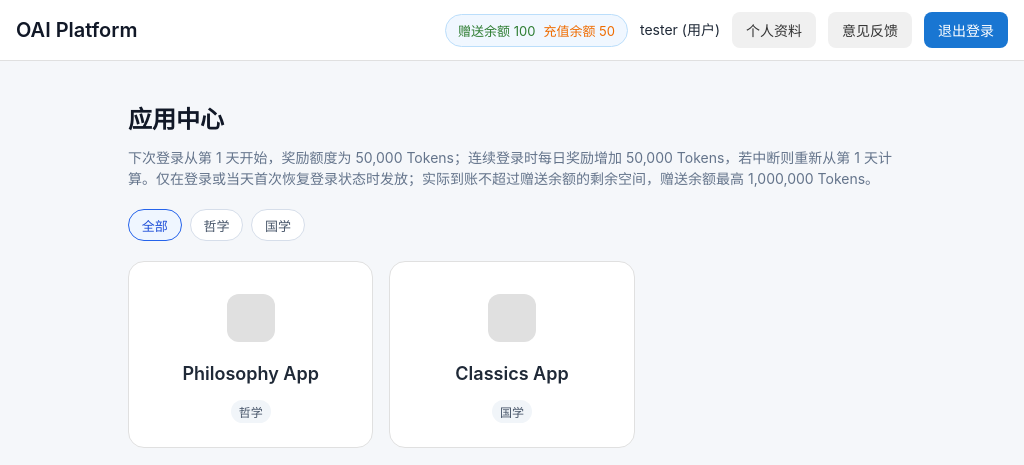
it: AppHub › filters app cards by tags
Check: the heading "Philosophy App" is shown, box top-left (182, 363), bottom-right (319, 384)
Check: the heading "Classics App" is shown, box top-left (455, 363), bottom-right (569, 384)
Click the button "哲学": click(216, 225) top-left (190, 209), bottom-right (243, 241)
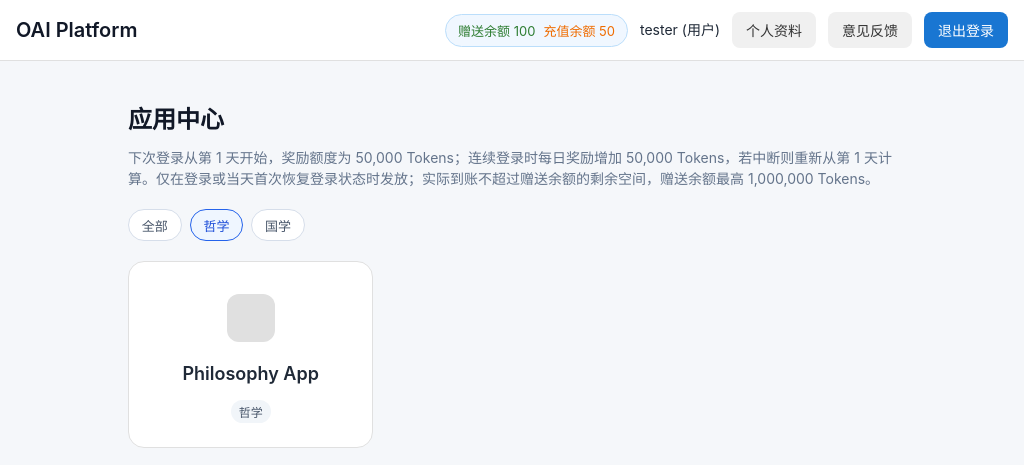
Check: the heading "Philosophy App" is shown, box top-left (182, 363), bottom-right (319, 384)
Check: the button "Classics App" is gone
